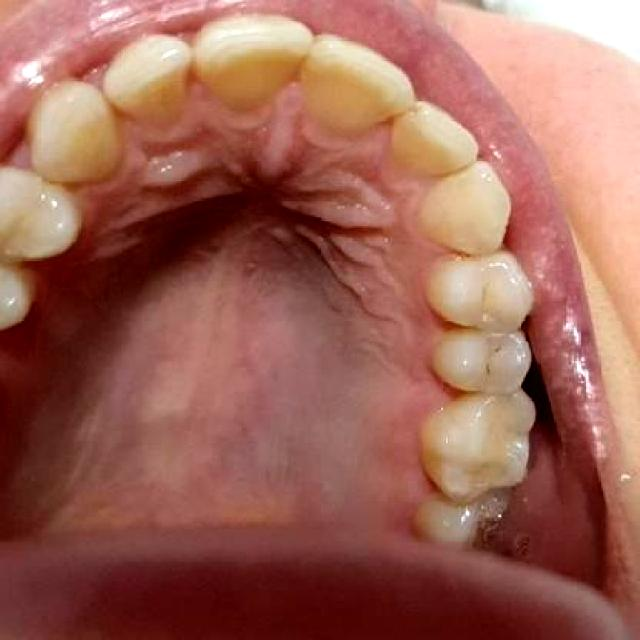Plaque: (470, 327, 516, 389)
